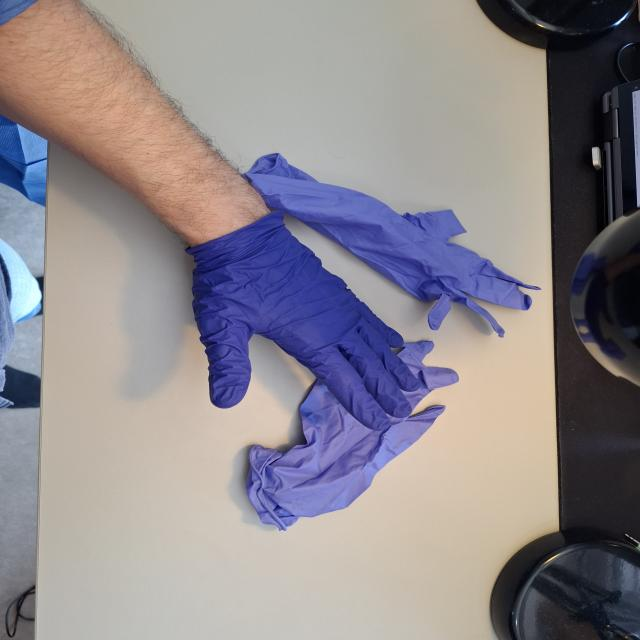glove_on: (182, 206, 424, 432)
